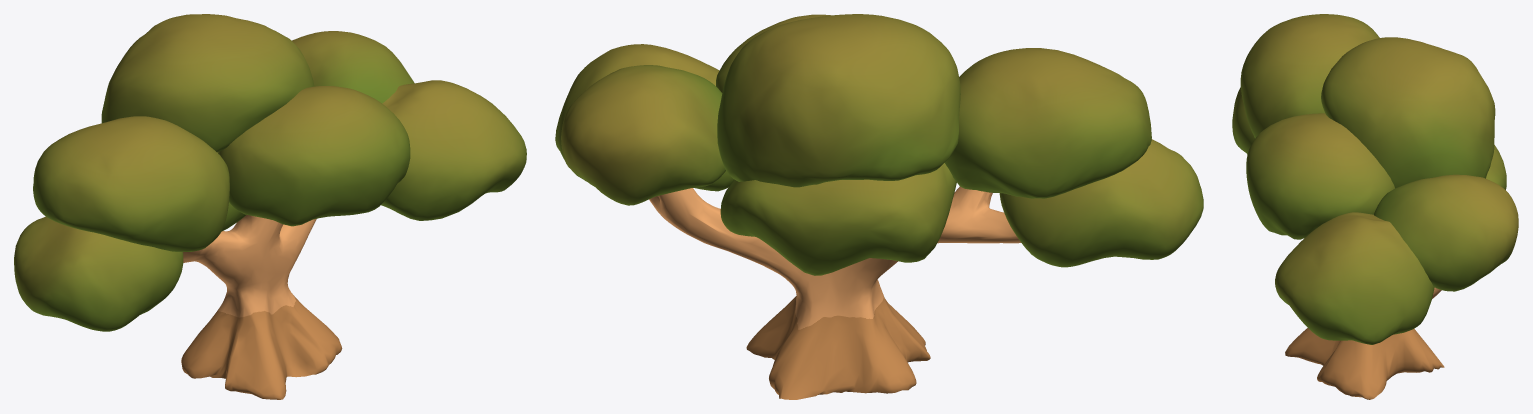
File: Tree_02.fbx
3 renders of one model, left to right at view 1: azimuth 30°, elevation 25°; view 2: azimuth 150°, elevation 25°; view 3: azimuth 270°, elevation 25°, orthographic. The views are drawn at different scales.
Parts seen in each view (by area): view 1: Tree_02_Leaves_07, Tree_02_Main; view 2: Tree_02_Leaves_07, Tree_02_Main; view 3: Tree_02_Leaves_07, Tree_02_Main.
Boxes of the visible parts, bbox=[...] form: Tree_02_Leaves_07: bbox=[14, 14, 526, 331]; Tree_02_Main: bbox=[181, 215, 342, 399]; Tree_02_Leaves_07: bbox=[555, 14, 1203, 275]; Tree_02_Main: bbox=[649, 186, 1020, 399]; Tree_02_Leaves_07: bbox=[1232, 14, 1518, 344]; Tree_02_Main: bbox=[1285, 287, 1444, 399].
Size of the model in its own units: 21.98 by 13.27 by 11.44.
